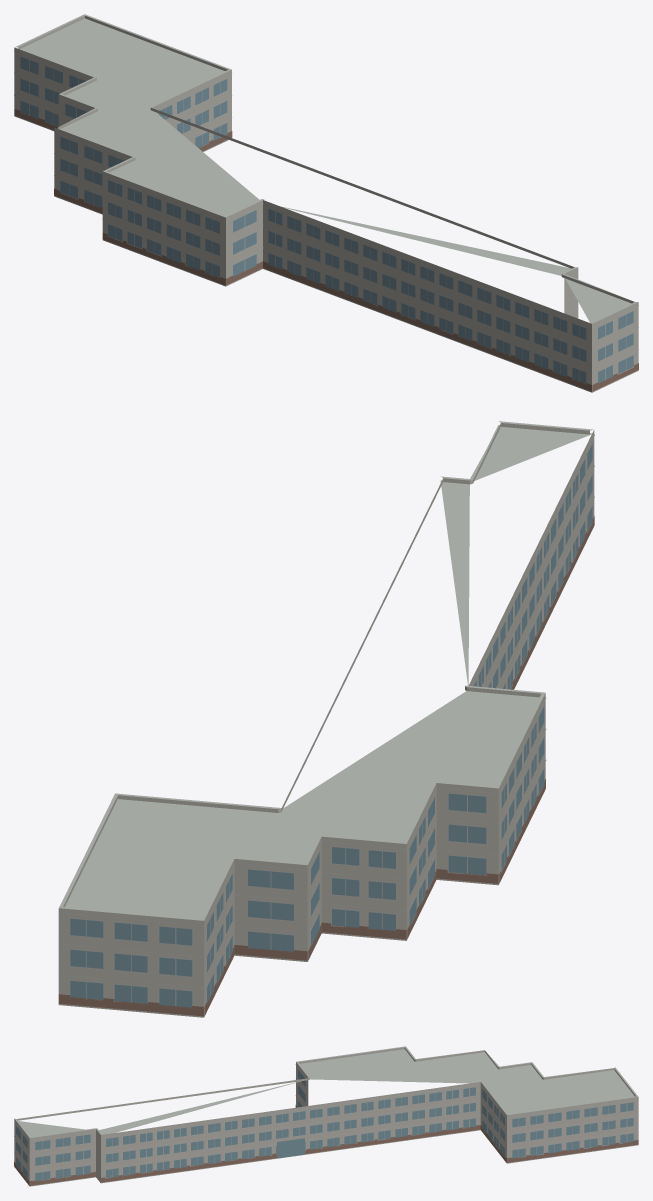
File: public-fcf1b541-1b51-4556-8396-de52d31c7cde.glb
3 renders of one model, top to bottom at view 1: azimuth 30°, elevation 25°; view 2: azimuth 150°, elevation 25°; view 3: azimuth 270°, elevation 25°, orthographic. The views are drawn at different scales.
Visible parts, largest first — view 1: public-fcf1b541-1b51-4556-8396-de52d31c7cde; view 2: public-fcf1b541-1b51-4556-8396-de52d31c7cde; view 3: public-fcf1b541-1b51-4556-8396-de52d31c7cde.
Boxes of the visible parts, x1,y1,x2,y2 form: public-fcf1b541-1b51-4556-8396-de52d31c7cde: [14, 14, 638, 392]; public-fcf1b541-1b51-4556-8396-de52d31c7cde: [58, 421, 594, 1017]; public-fcf1b541-1b51-4556-8396-de52d31c7cde: [14, 1046, 638, 1186].
Bounding box in the file's own units: 37.35 × 9.15 × 107.
